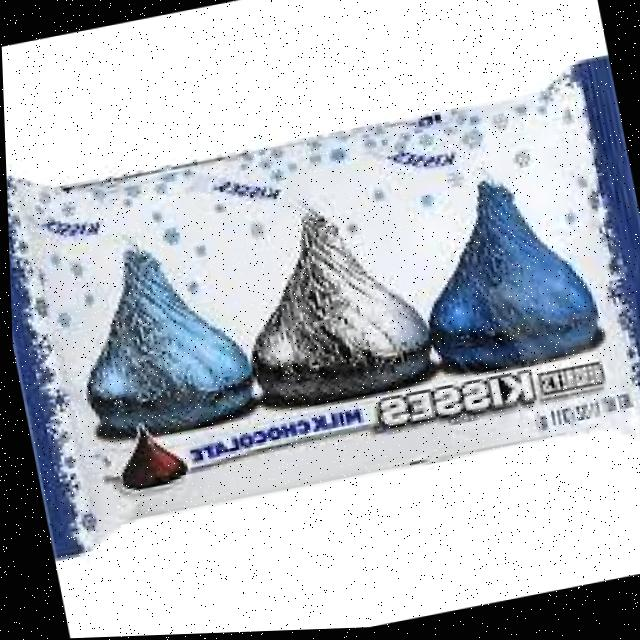kisses: (220, 184, 438, 420)
